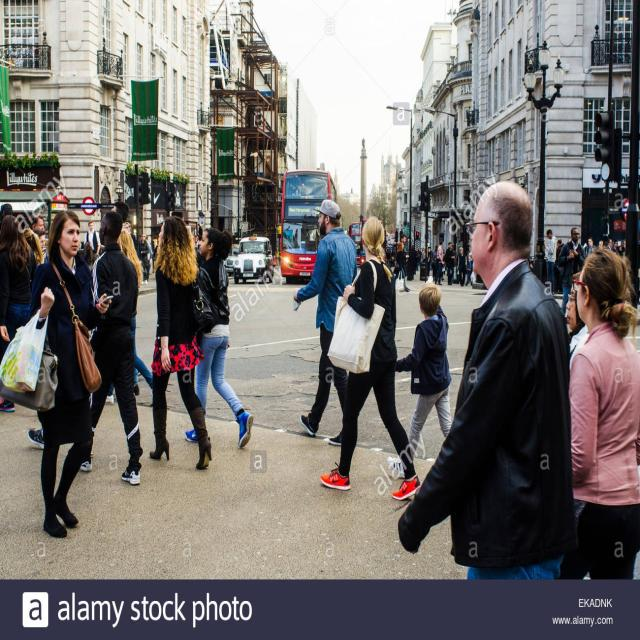body: (395, 180, 576, 581), (387, 173, 630, 374), (0, 208, 114, 540), (317, 214, 426, 504), (569, 244, 639, 580), (290, 197, 364, 449), (78, 210, 144, 487), (147, 213, 217, 471), (183, 225, 255, 450), (0, 202, 52, 453), (386, 281, 452, 478), (117, 221, 326, 277), (104, 228, 154, 407), (0, 214, 37, 412), (558, 226, 586, 318), (543, 228, 558, 296), (393, 232, 409, 292), (392, 241, 410, 293), (83, 219, 101, 257), (444, 241, 456, 286), (140, 233, 150, 286), (434, 239, 445, 286), (455, 246, 467, 288), (112, 200, 130, 223), (463, 253, 474, 286), (410, 244, 420, 276), (430, 245, 438, 282), (288, 182, 304, 200)
